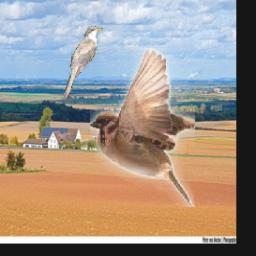Cuckoo: (64, 26, 104, 99)
Sparrow: (90, 48, 195, 207)
